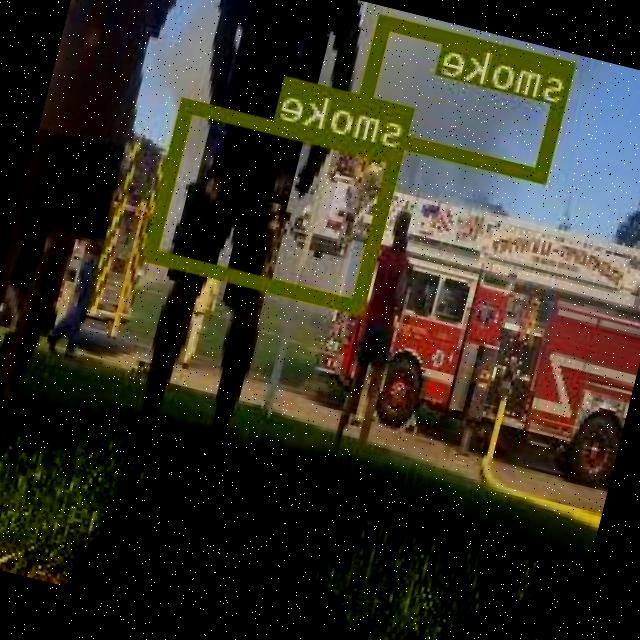smoke: (146, 96, 404, 312), (353, 13, 578, 182)
